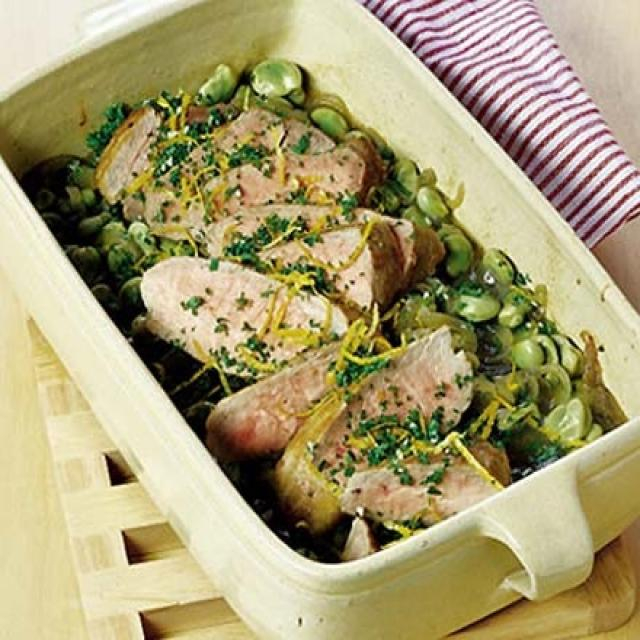猪肉菜式: (16, 18, 624, 596)
